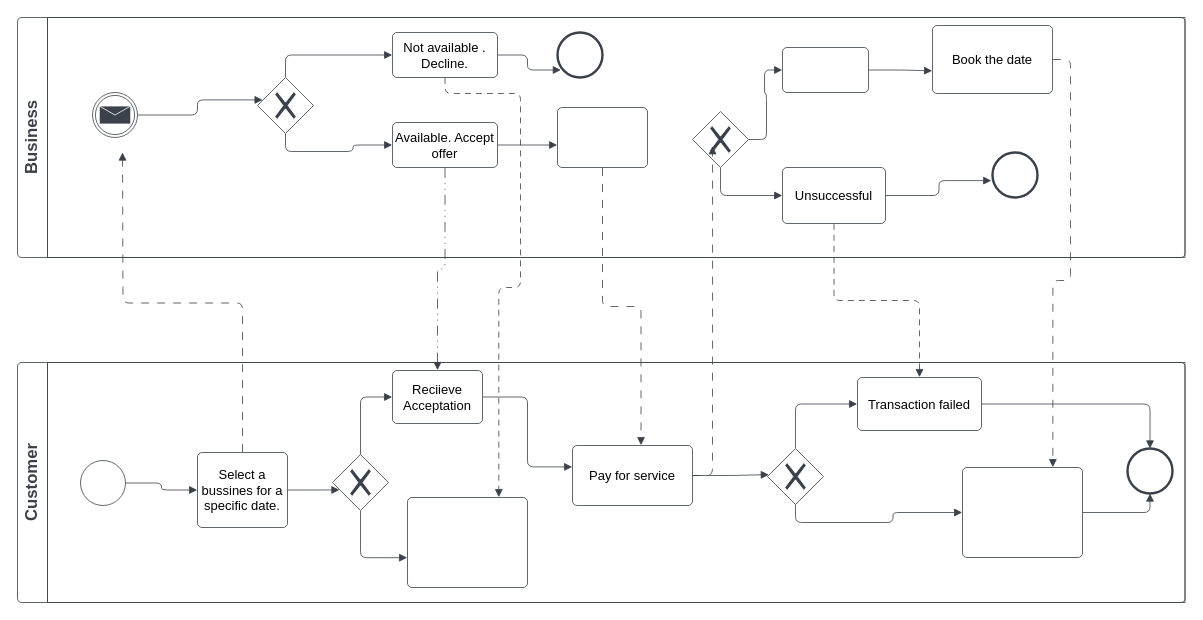
The diagram is 1203 pixels wide and 620 high, and some of its shapes have lost their labels. Each missing label, with the centre of its shape:
"Ask for payment" belongs at (602,137).
"Event" belongs at (1014,174).
"Recieve decline" belongs at (467,542).
"Successful" belongs at (825,69).
"Transaction Successful" belongs at (1022,512).
